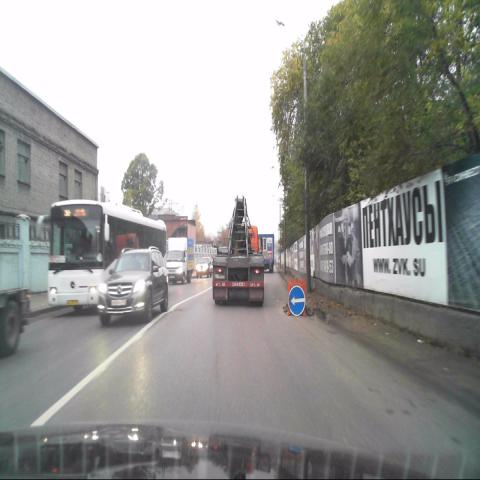4_1_2_2: (288, 285, 306, 316)
